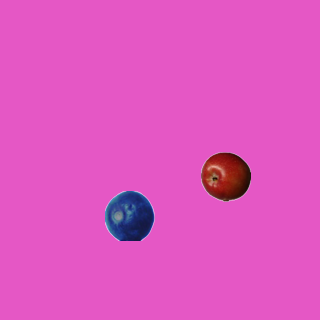Apple Braeburn: (200, 151, 250, 201)
Huckleberry: (104, 190, 154, 240)
